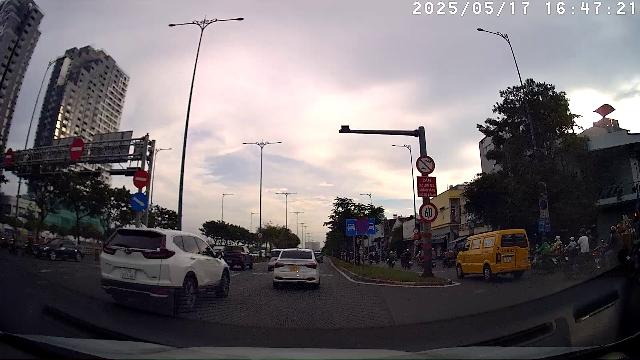127-toc-do-toi-da-60: (419, 202, 438, 222)
